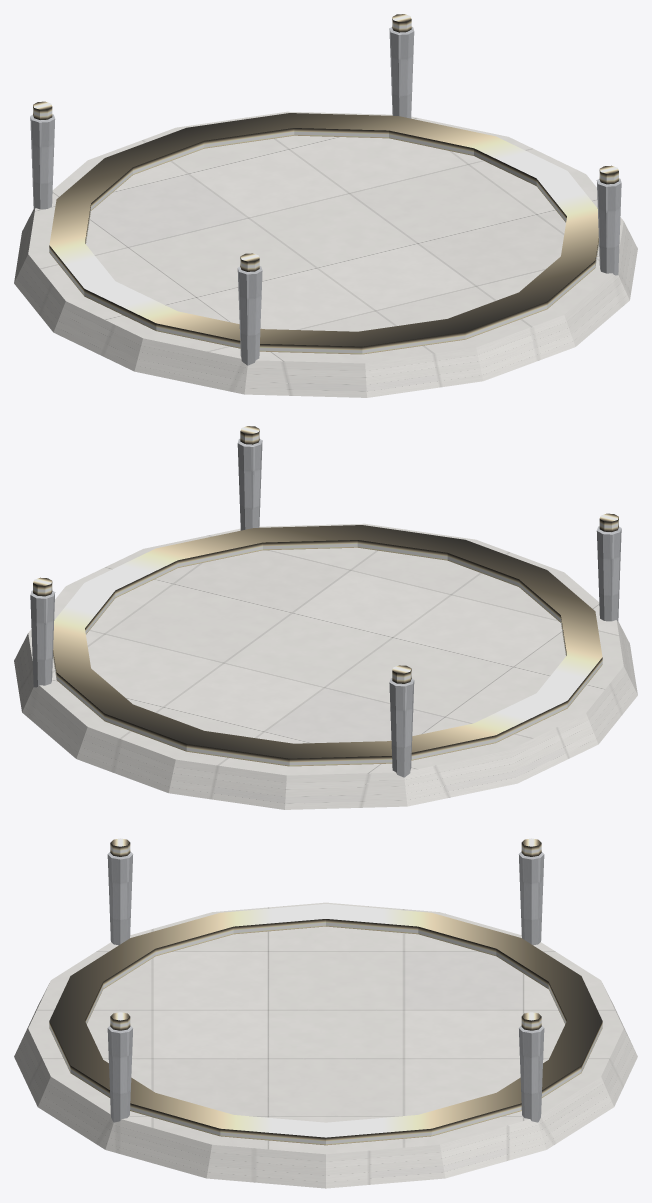
Rendered from sanc_spawn_pad.obj.
The picture shows the model from 3 angles, top to bottom: view 1: azimuth 30°, elevation 25°; view 2: azimuth 150°, elevation 25°; view 3: azimuth 270°, elevation 25°; orthographic projection.
Visible parts, largest first — view 1: sanc_spawn_pad; view 2: sanc_spawn_pad; view 3: sanc_spawn_pad.
Part boxes in pixels (bbox=[...]): sanc_spawn_pad: bbox=[14, 14, 637, 397]; sanc_spawn_pad: bbox=[14, 426, 637, 809]; sanc_spawn_pad: bbox=[14, 838, 637, 1188].
Size of the model in its own units: 4.4 by 0.99 by 4.4.
Materials: 1 (1 with a texture image).
